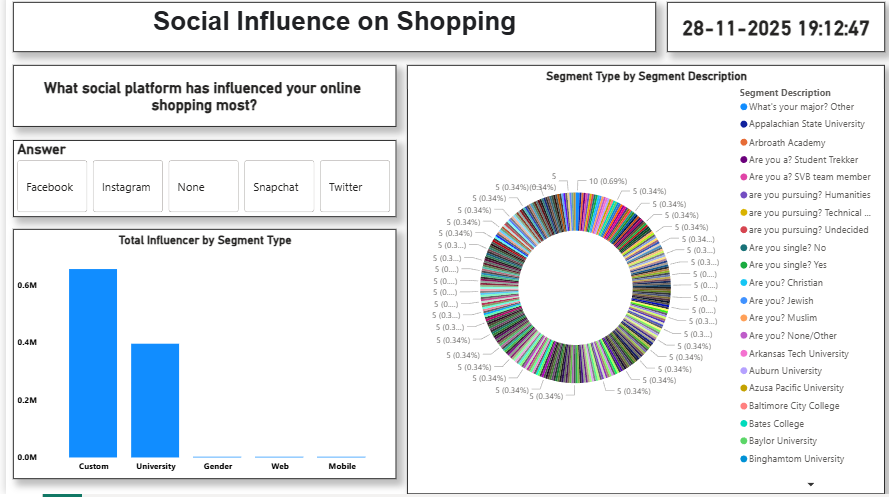

The page's visual inventory and layout, read from the dashboard file:
{"tool":"powerbi","page":{"name":"Page 1","canvas":[1280,720],"ordinal":0},"visuals":[{"type":"textbox","box":[10.1,11.5,925.9,72],"z":0},{"type":"card","fields":{"Values":["Social Influence on Shopping.Today"]},"box":[951.8,11.5,313.9,72],"z":1},{"type":"card","fields":{"Values":["Min(Social Influence on Shopping.Question)"]},"box":[10.1,102.2,551.5,89.3],"z":4},{"type":"advancedSlicerVisual","fields":{"Values":["Social Influence on Shopping.Answer"]},"box":[10.1,210.2,551.5,110.9],"z":5},{"type":"clusteredColumnChart","title":"Total Influencer by Segment Type","fields":{"Y":["Sum(Social Influence on Shopping.index)"],"Category":["Social Influence on Shopping.Segment Type"]},"box":[10.1,338.4,551.5,360],"z":6},{"type":"donutChart","title":"Segment Type by Segment Description","fields":{"Category":["Social Influence on Shopping.Segment Description"],"Y":["CountNonNull(Social Influence on Shopping.Segment Type)"]},"box":[577.4,102.2,688.3,617.8],"z":7}]}

Visuals, with their boxes in screenshot pixels (x1, y1, x2, y2), scaled from the page's 1280x720 canvas onto the 889x497 screenshot:
textbox: (left=7, top=8, right=650, bottom=58)
card - Social Influence on Shopping.Today: (left=661, top=8, right=879, bottom=58)
card - Min(Social Influence on Shopping.Question): (left=7, top=71, right=390, bottom=132)
advancedSlicerVisual - Social Influence on Shopping.Answer: (left=7, top=145, right=390, bottom=222)
"Total Influencer by Segment Type" clusteredColumnChart: (left=7, top=234, right=390, bottom=482)
"Segment Type by Segment Description" donutChart: (left=401, top=71, right=879, bottom=496)
